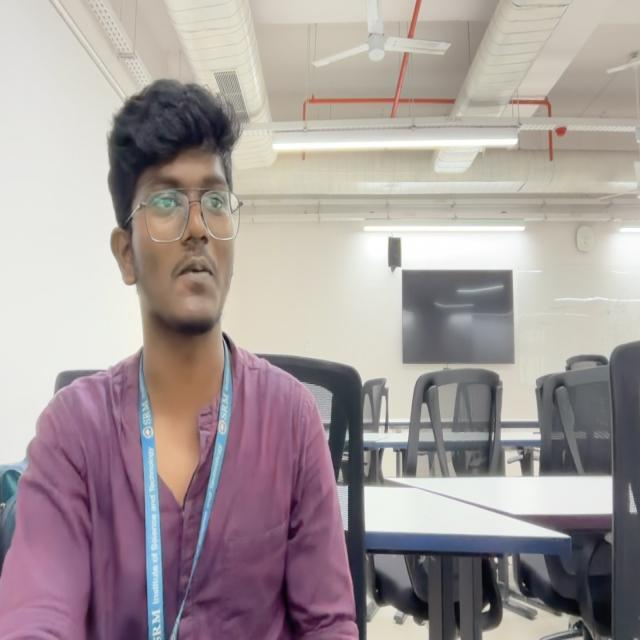ravindra: (105, 79, 245, 343)
